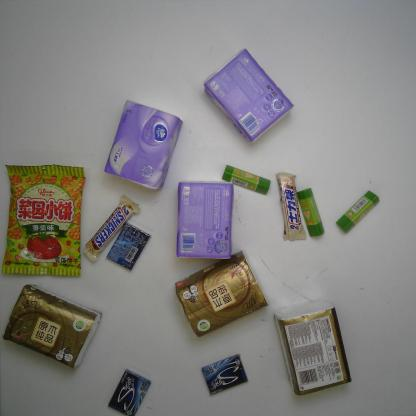Chocolate: (82, 194, 141, 262), (275, 171, 307, 243)
Gum: (105, 220, 150, 270), (107, 368, 152, 416), (200, 353, 249, 395)
Puffed Food: (0, 163, 86, 278)
Stationery: (334, 190, 381, 235), (297, 186, 325, 238), (221, 165, 271, 194)
Tissue: (202, 46, 295, 144), (1, 282, 103, 371), (174, 249, 270, 338), (272, 300, 352, 396), (103, 98, 184, 191), (174, 178, 235, 260)
